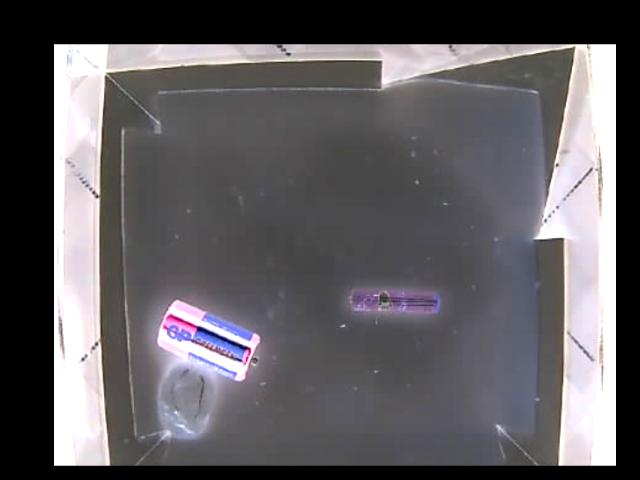Battery: (158, 301, 263, 378), (347, 289, 439, 313)
Pebble: (155, 360, 216, 438)
